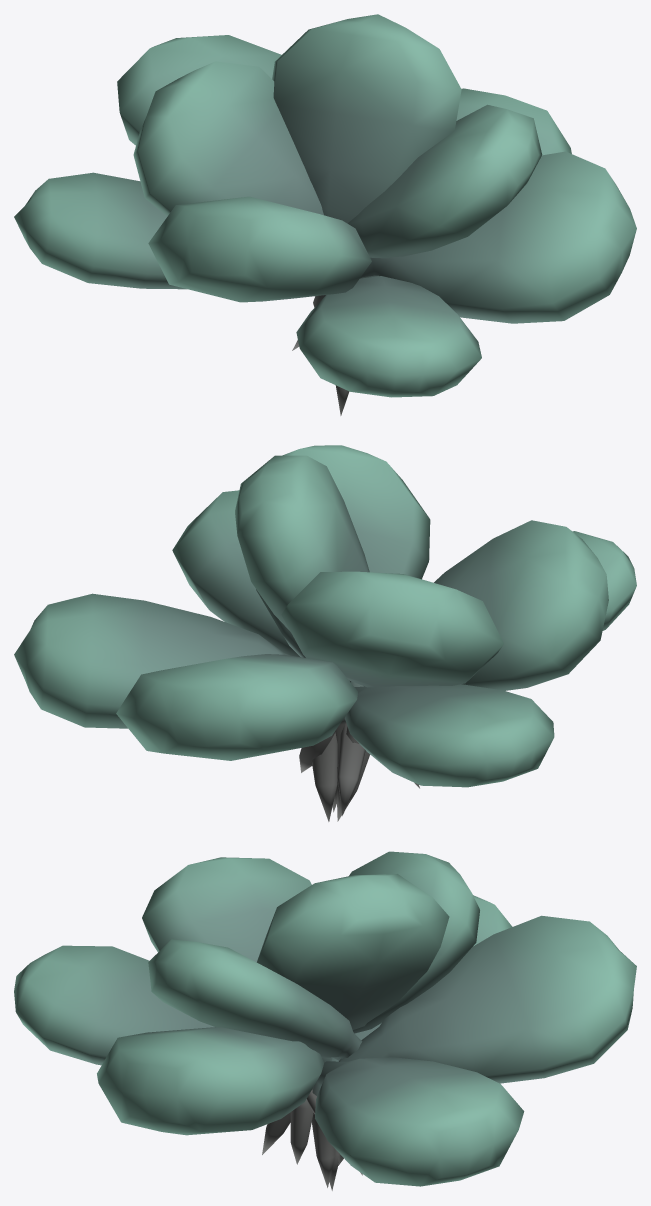
File: plants-cacti-succulents-paddle-succulent_v1.glb
3 views of the same model, one above another, from view 1: azimuth 30°, elevation 25°; view 2: azimuth 150°, elevation 25°; view 3: azimuth 270°, elevation 25° (orthographic). The views are drawn at different scales.
Visible parts, largest first — view 1: Paddle Succulent_v1; view 2: Paddle Succulent_v1; view 3: Paddle Succulent_v1.
Part boxes in pixels (x1,y1,x2,y2): Paddle Succulent_v1: [14, 14, 636, 415]; Paddle Succulent_v1: [14, 445, 636, 821]; Paddle Succulent_v1: [14, 851, 636, 1190].
Size of the model in its own units: 0.1341 by 0.0874 by 0.15.
